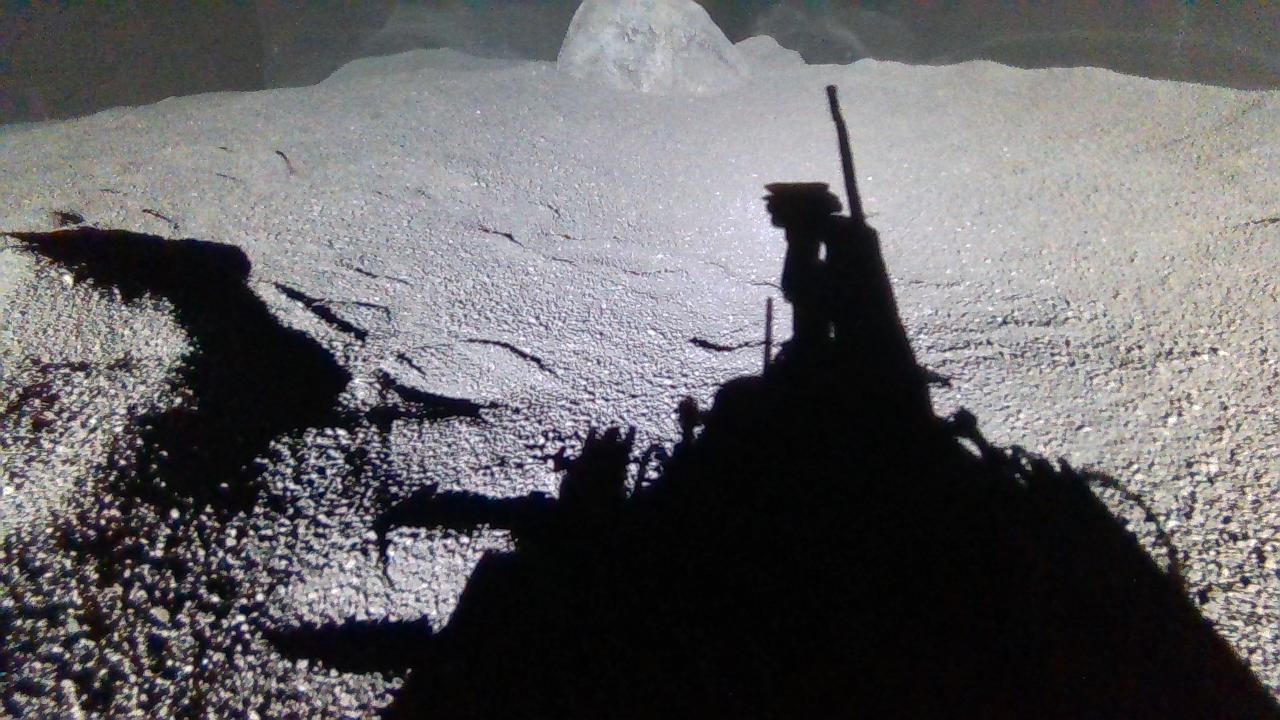rock: (558, 0, 751, 92)
